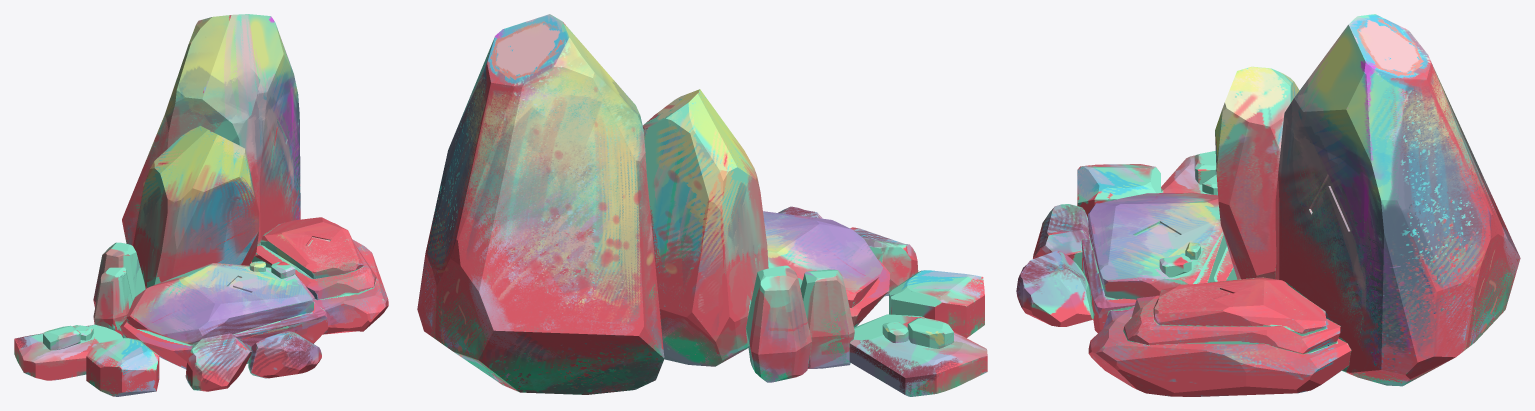
Rendered from Rock1.fbx.
3 views of the same model, side by side, from view 1: azimuth 30°, elevation 25°; view 2: azimuth 150°, elevation 25°; view 3: azimuth 270°, elevation 25° (orthographic). The views are drawn at different scales.
Parts seen in each view (by area): view 1: stone43; view 2: stone43; view 3: stone43.
Part boxes in pixels (bbox=[...]): stone43: bbox=[14, 14, 388, 396]; stone43: bbox=[417, 14, 987, 396]; stone43: bbox=[1016, 14, 1520, 396].
Size of the model in its own units: 833 by 593 by 785.
